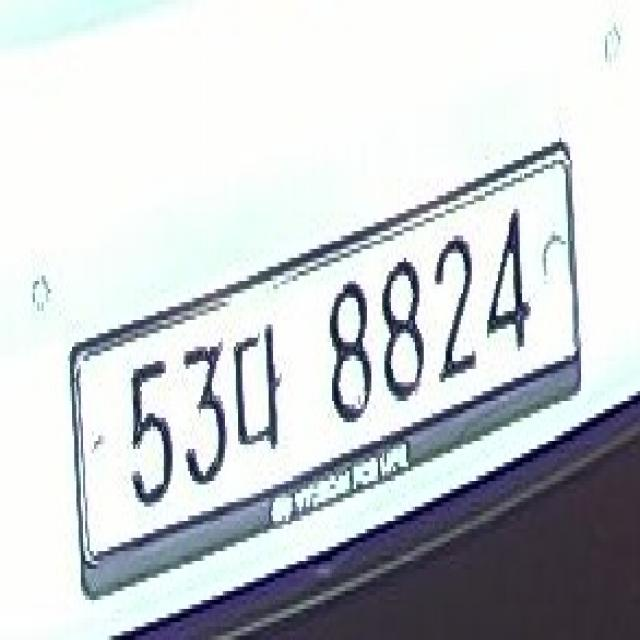2: (426, 214, 483, 396)
3: (179, 311, 234, 507)
4: (487, 191, 542, 365)
5: (120, 338, 179, 529)
8: (319, 253, 387, 444), (376, 226, 428, 404)
da: (230, 324, 290, 454)
license_plate: (72, 120, 588, 582)
